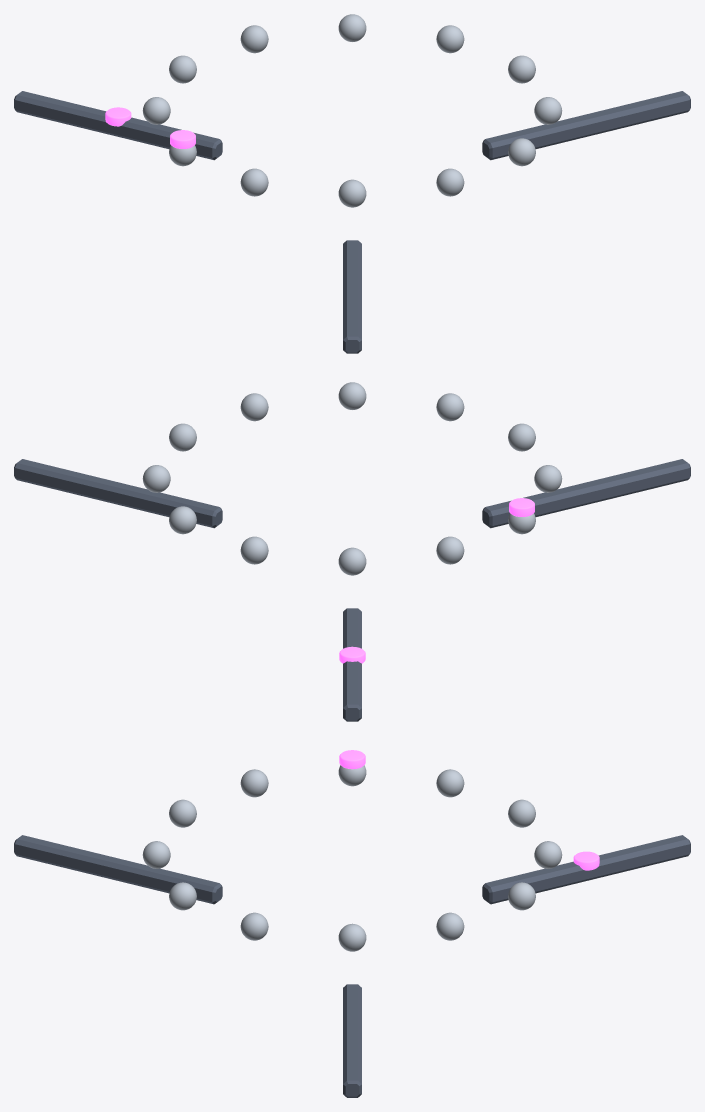
Rendered from tower_arc_range_s3.glb.
3 views of the same model, one above another, from view 1: azimuth 30°, elevation 25°; view 2: azimuth 150°, elevation 25°; view 3: azimuth 270°, elevation 25° (orthographic).
Parts seen in each view (by area): view 1: arc_guide_arm1, arc_guide_arm0, arc_guide_arm2, arc_relay_knob3, arc_relay_knob5, arc_relay_knob10, arc_relay_knob2, arc_relay_knob4, arc_relay_knob6, arc_relay_knob9, arc_relay_knob11, arc_relay_knob8 (+2 smaller); view 2: arc_guide_arm1, arc_guide_arm2, arc_guide_arm0, arc_relay_knob7, arc_relay_knob9, arc_relay_knob2, arc_relay_knob6, arc_relay_knob8, arc_relay_knob10, arc_relay_knob1, arc_relay_knob3, arc_relay_knob4 (+2 smaller); view 3: arc_guide_arm2, arc_guide_arm0, arc_guide_arm1, arc_relay_knob5, arc_relay_knob6, arc_relay_knob7, arc_relay_knob4, arc_relay_knob8, arc_relay_knob2, arc_relay_knob10, arc_relay_knob1, arc_relay_knob11 (+2 smaller).
Boxes of the visible parts, x1,y1,x2,y2 form: arc_guide_arm1: [482, 91, 690, 160]; arc_guide_arm0: [14, 91, 222, 160]; arc_guide_arm2: [343, 240, 361, 353]; arc_relay_knob3: [240, 25, 268, 53]; arc_relay_knob5: [436, 25, 464, 53]; arc_relay_knob10: [338, 179, 366, 207]; arc_relay_knob2: [169, 55, 196, 83]; arc_relay_knob4: [338, 14, 366, 41]; arc_relay_knob6: [508, 55, 535, 83]; arc_relay_knob9: [436, 168, 464, 196]; arc_relay_knob11: [240, 168, 268, 196]; arc_relay_knob8: [508, 138, 535, 166]; arc_guide_arm1: [14, 459, 222, 528]; arc_guide_arm2: [482, 459, 690, 528]; arc_guide_arm0: [343, 608, 361, 721]; arc_relay_knob7: [240, 393, 268, 421]; arc_relay_knob9: [436, 393, 464, 421]; arc_relay_knob2: [338, 547, 366, 575]; arc_relay_knob6: [169, 423, 196, 451]; arc_relay_knob8: [338, 382, 366, 409]; arc_relay_knob10: [508, 423, 535, 451]; arc_relay_knob1: [436, 536, 464, 564]; arc_relay_knob3: [240, 536, 268, 564]; arc_relay_knob4: [169, 506, 196, 534]; arc_guide_arm2: [14, 835, 222, 904]; arc_guide_arm0: [482, 835, 690, 904]; arc_guide_arm1: [343, 984, 361, 1097]; arc_relay_knob5: [436, 912, 464, 940]; arc_relay_knob6: [338, 923, 366, 951]; arc_relay_knob7: [240, 912, 268, 940]; arc_relay_knob4: [508, 882, 535, 910]; arc_relay_knob8: [169, 882, 196, 910]; arc_relay_knob2: [508, 799, 535, 827]; arc_relay_knob10: [169, 799, 196, 827]; arc_relay_knob1: [436, 769, 464, 797]; arc_relay_knob11: [240, 769, 268, 797].
Bounding box in the file's own units: 1.28 × 0.2314 × 1.45.
